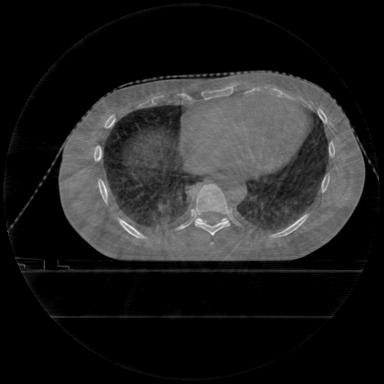body: (58, 70, 365, 261)
cord: (194, 184, 230, 237)
paru kanan: (104, 106, 201, 226)
paru kiri: (237, 114, 328, 229)
